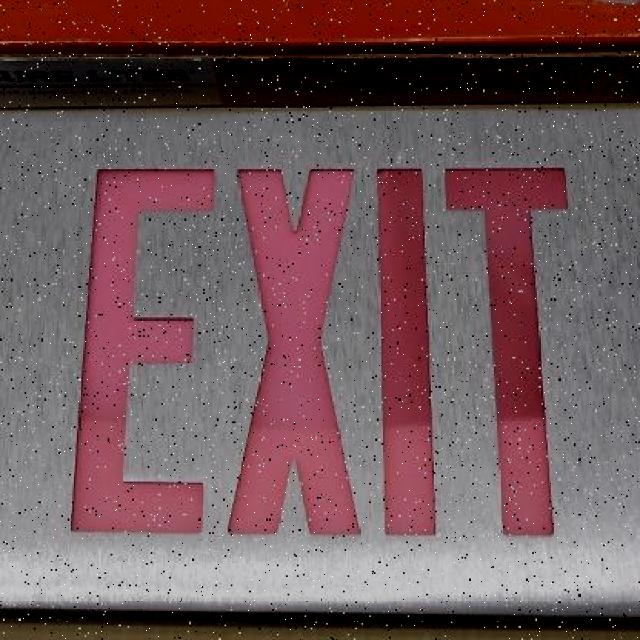emergency_exit: (2, 10, 638, 627), (2, 80, 638, 618), (69, 160, 571, 541)
